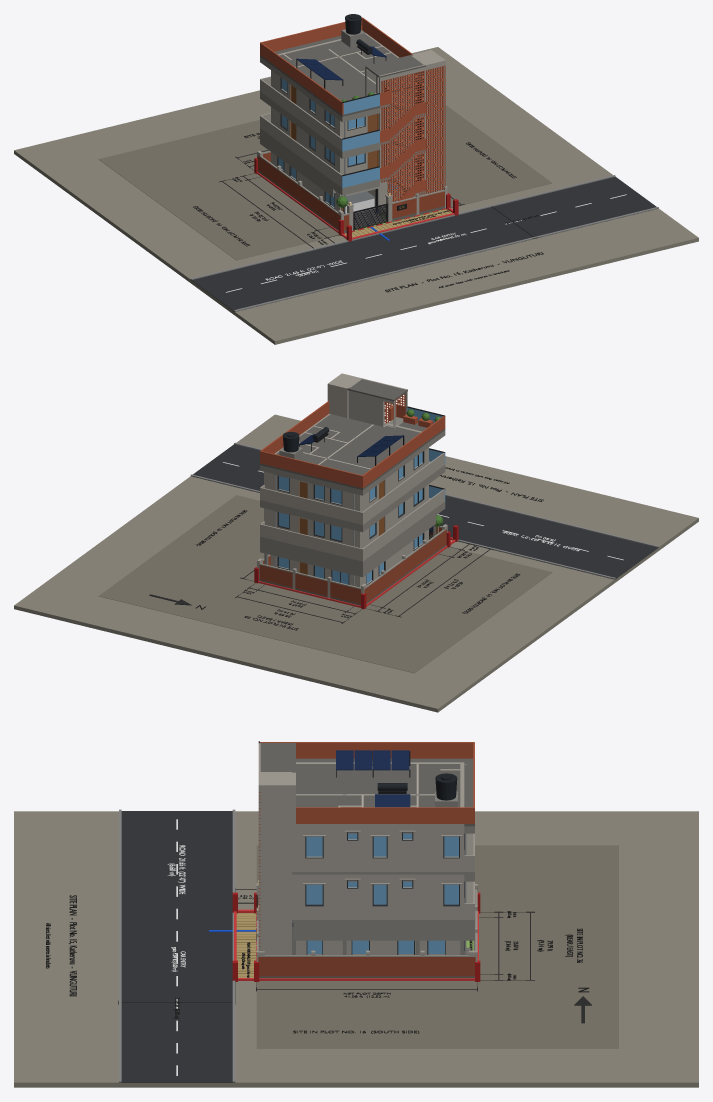
File: 10_complete.glb
The picture shows the model from 3 angles, top to bottom: view 1: azimuth 30°, elevation 25°; view 2: azimuth 150°, elevation 25°; view 3: azimuth 270°, elevation 25°; orthographic projection. The views are drawn at different scales.
Visible parts, largest first — view 1: 01_Terrain, 01_Neighbour_Plot, 05_Road, ELEV_Parapet, ROOF_Roof_Slab, ROOF_Parapet, WALK_Parapet_Wall, ELEV_Fascia, 05_Kerb, SF_Wall_Exterior, STAIR_Parapet, LIFT_Shaft (+17 smaller); view 2: 01_Terrain, 01_Neighbour_Plot, 05_Road, WALK_Parapet_Wall, ROOF_Roof_Slab, ROOF_Parapet, ELEV_Fascia, SF_Wall_Exterior, FF_Wall_Exterior, Wall_Rear, WALK_Drip_Wall, Wall_North (+12 smaller); view 3: 01_Terrain, 01_Neighbour_Plot, 05_Road, SF_Wall_Exterior, FF_Wall_Exterior, ROOF_Roof_Slab, LIFT_Shaft, ROOF_Parapet, Wall_South, WALK_Drip_Wall, ROOFSVC_Solar, ELEV_Fascia (+15 smaller).
Part boxes in pixels (<box>): 01_Terrain: <box>14,47,698,344</box>; 01_Neighbour_Plot: <box>98,105,552,260</box>; 05_Road: <box>191,177,656,311</box>; ELEV_Parapet: <box>381,65,445,201</box>; ROOF_Roof_Slab: <box>260,30,411,116</box>; ROOF_Parapet: <box>260,17,412,114</box>; WALK_Parapet_Wall: <box>260,76,342,187</box>; ELEV_Fascia: <box>260,57,379,195</box>; 05_Kerb: <box>190,175,658,311</box>; SF_Wall_Exterior: <box>271,33,411,138</box>; STAIR_Parapet: <box>380,92,425,200</box>; LIFT_Shaft: <box>412,50,445,193</box>; 01_Terrain: <box>14,414,698,712</box>; 01_Neighbour_Plot: <box>98,495,552,673</box>; 05_Road: <box>193,444,658,579</box>; WALK_Parapet_Wall: <box>260,452,444,561</box>; ROOF_Roof_Slab: <box>260,414,445,490</box>; ROOF_Parapet: <box>260,401,445,488</box>; ELEV_Fascia: <box>260,430,445,568</box>; SF_Wall_Exterior: <box>264,413,428,511</box>; FF_Wall_Exterior: <box>264,484,428,548</box>; Wall_Rear: <box>259,565,360,605</box>; WALK_Drip_Wall: <box>260,515,435,577</box>; Wall_North: <box>364,529,446,604</box>; 01_Terrain: <box>14,811,698,1087</box>; 01_Neighbour_Plot: <box>256,845,618,1048</box>; 05_Road: <box>119,811,234,1082</box>; SF_Wall_Exterior: <box>292,762,464,871</box>; FF_Wall_Exterior: <box>292,874,464,919</box>; ROOF_Roof_Slab: <box>296,758,474,826</box>; LIFT_Shaft: <box>258,772,295,954</box>; ROOF_Parapet: <box>260,742,474,823</box>; Wall_South: <box>258,957,475,978</box>; WALK_Drip_Wall: <box>293,929,474,940</box>; ROOFSVC_Solar: <box>336,750,410,807</box>; ELEV_Fascia: <box>294,826,474,929</box>.
Size of the model in its own units: 36.4 by 18.17 by 38.8.
